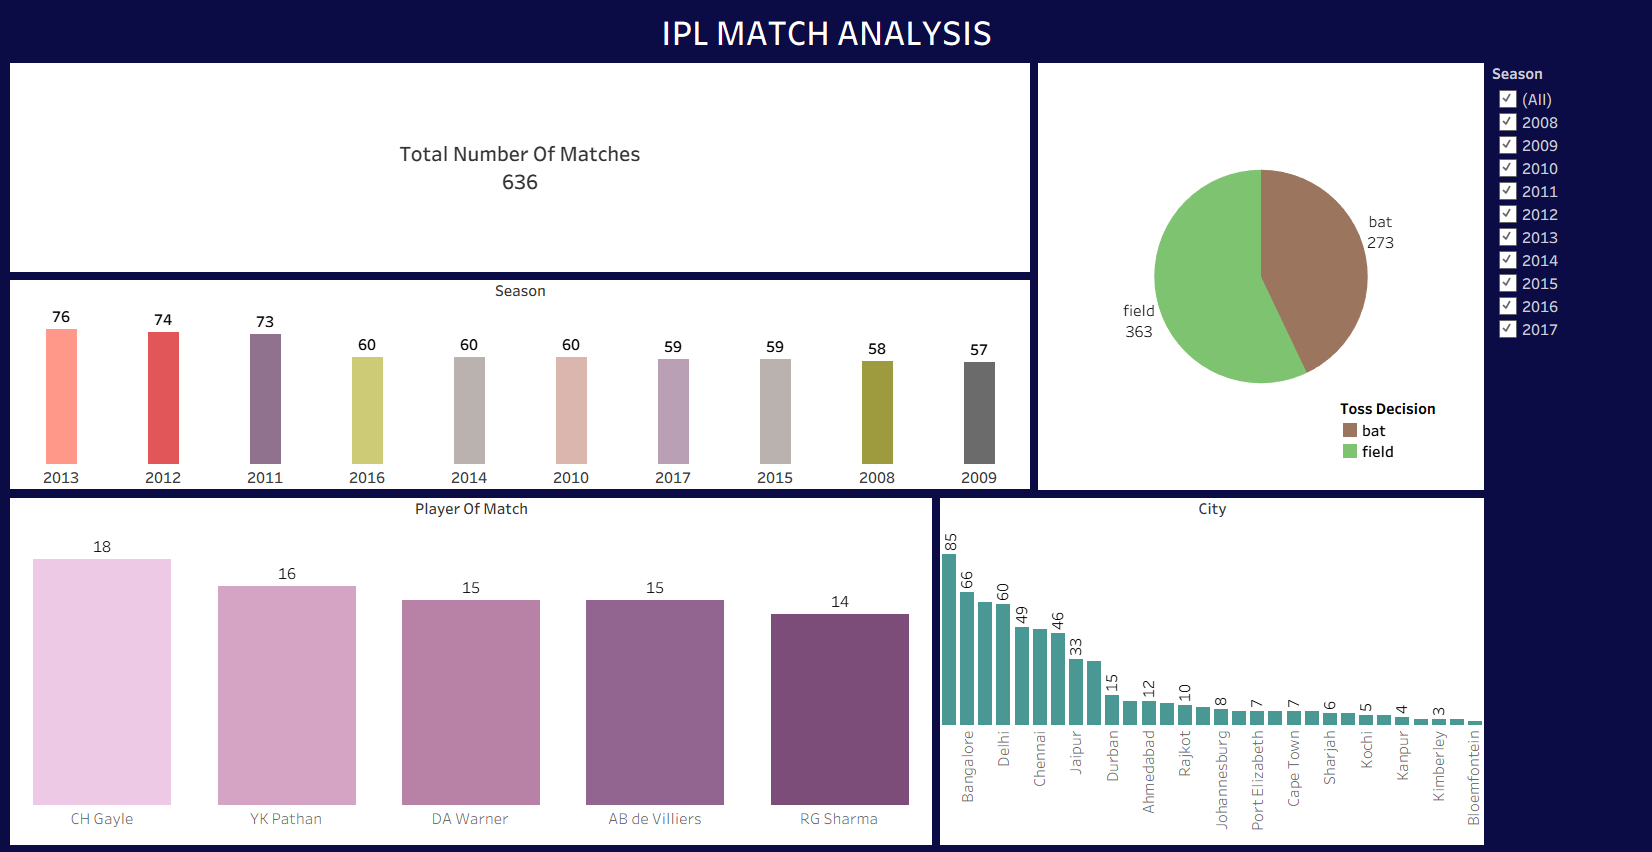

This screenshot's page, from the dashboard's own definition file:
{"tool":"tableau","page":{"name":"Dashboard 1","canvas":[1000,1000],"units":"permille","ordinal":0},"visuals":[{"type":"title","box":[4.8,9.3,990.3,63.9]},{"type":"worksheet","title":"Total number of matches","mark":"Automatic","box":[4.8,73.2,620.5,252.5]},{"type":"worksheet","title":". Toss Decision Count","mark":"Pie","box":[625.3,73.2,273.9,505]},{"type":"filter","title":" Total Matches Played Per Season ","param":"[federated.14n4izv14853tt117cfqi1plvs6q].[none:season:ok]","box":[899.2,73.2,96,534.3]},{"type":"worksheet","title":" Total Matches Played Per Season ","mark":"Bar","rows":["id"],"cols":["season"],"box":[4.8,325.7,620.5,252.5]},{"type":"legend","title":". Toss Decision Count","param":"[federated.14n4izv14853tt117cfqi1plvs6q].[none:toss_decision:nk]","box":[809.9,466.9,84.5,74.3]},{"type":"worksheet","title":" Top 5 “Player of the Match” Winners","mark":"Automatic","rows":["id"],"cols":["player_of_match"],"box":[4.8,578.2,561.1,412.5]},{"type":"worksheet","title":"Matches Played in Each City ","mark":"Automatic","rows":["id"],"cols":["city"],"box":[565.9,578.2,333.3,412.5]}]}

Visuals, with their boxes on the dashboard's canvas, which has no fixed pixel size, in thousandths of its width and height (x1, y1, x2, y2). These are canvas units, not pixel positions in the 1652x852 screenshot, which may show the page scaled, cropped or inside an application window:
title: select_region(5, 9, 995, 73)
"Total number of matches" worksheet: select_region(5, 73, 625, 326)
". Toss Decision Count" worksheet (Pie marks): select_region(625, 73, 899, 578)
" Total Matches Played Per Season " filter: select_region(899, 73, 995, 608)
" Total Matches Played Per Season " worksheet (Bar marks): select_region(5, 326, 625, 578)
". Toss Decision Count" legend: select_region(810, 467, 894, 541)
" Top 5 “Player of the Match” Winners" worksheet: select_region(5, 578, 566, 991)
"Matches Played in Each City " worksheet: select_region(566, 578, 899, 991)
